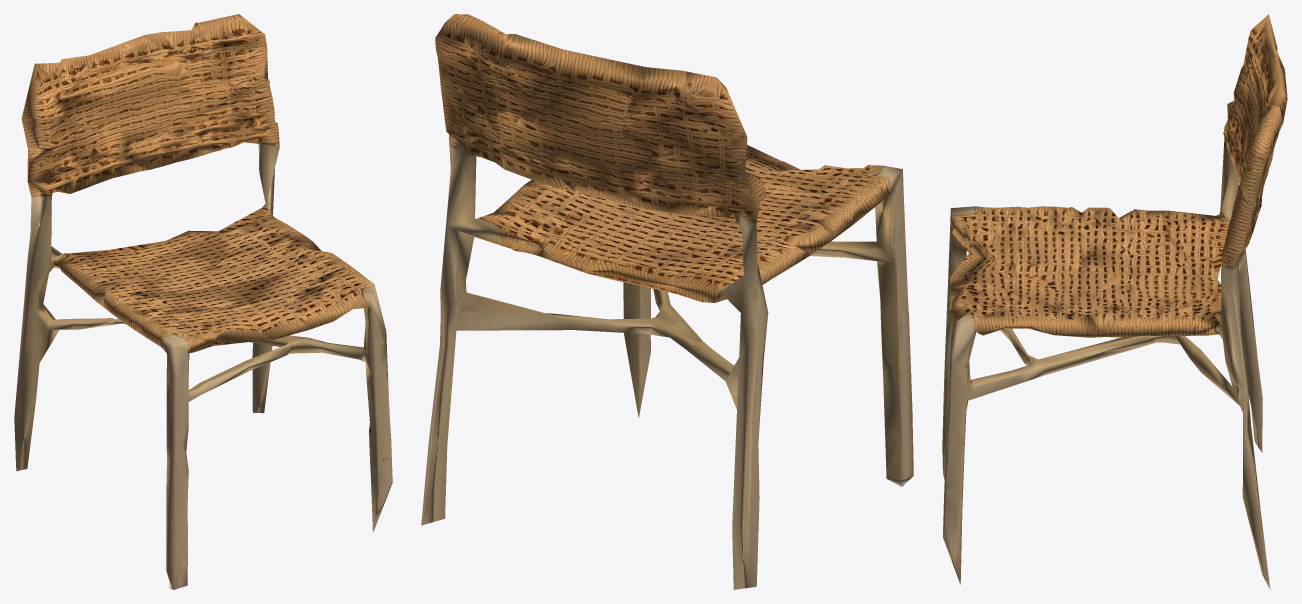
The model's file is cafechair.glb.
3 views of the same model, side by side, from view 1: azimuth 30°, elevation 25°; view 2: azimuth 150°, elevation 25°; view 3: azimuth 270°, elevation 25° (orthographic). The views are drawn at different scales.
Visible parts, largest first — view 1: tripo_node_31f12766-8293-424b-b3c6-709b9bef3fed; view 2: tripo_node_31f12766-8293-424b-b3c6-709b9bef3fed; view 3: tripo_node_31f12766-8293-424b-b3c6-709b9bef3fed.
Boxes of the visible parts, left/top/right/bottom form: tripo_node_31f12766-8293-424b-b3c6-709b9bef3fed: left=14, top=14, right=392, bottom=589; tripo_node_31f12766-8293-424b-b3c6-709b9bef3fed: left=421, top=14, right=913, bottom=589; tripo_node_31f12766-8293-424b-b3c6-709b9bef3fed: left=942, top=14, right=1287, bottom=589.
Size of the model in its own units: 0.5376 by 0.8482 by 0.5672.
1 material, 1 textured.
